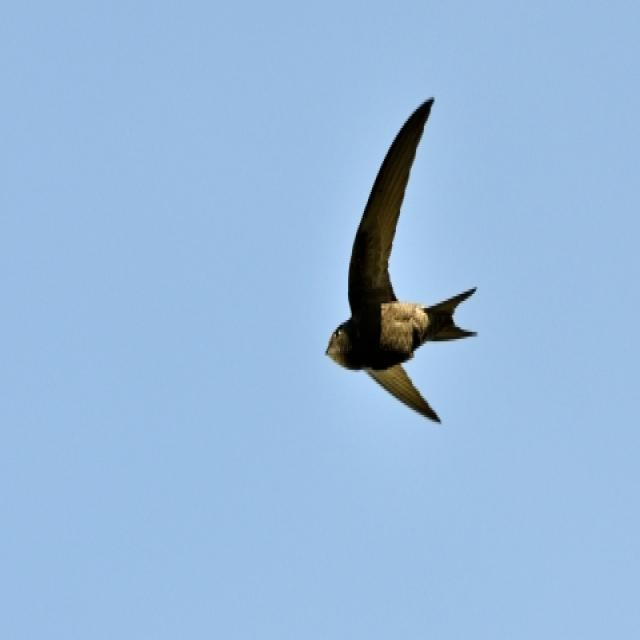birds: (323, 91, 481, 427)
